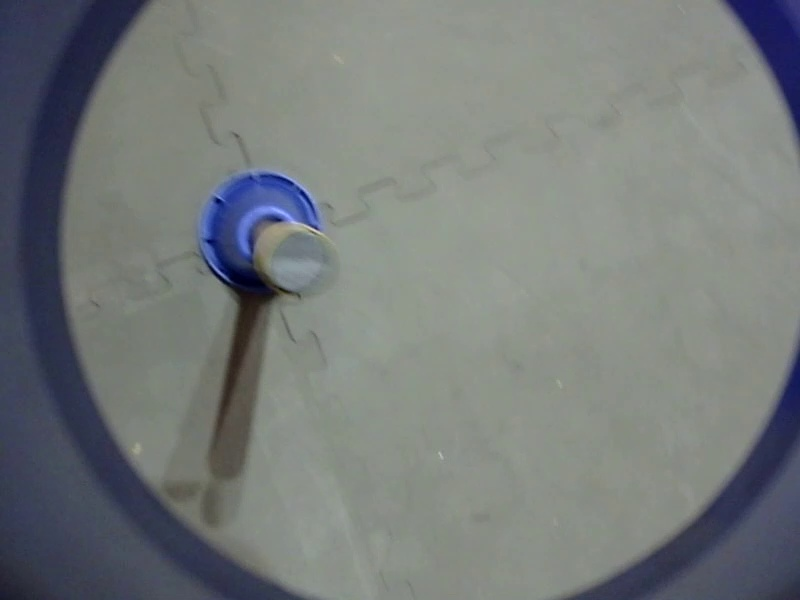tip: (333, 13, 445, 116)
